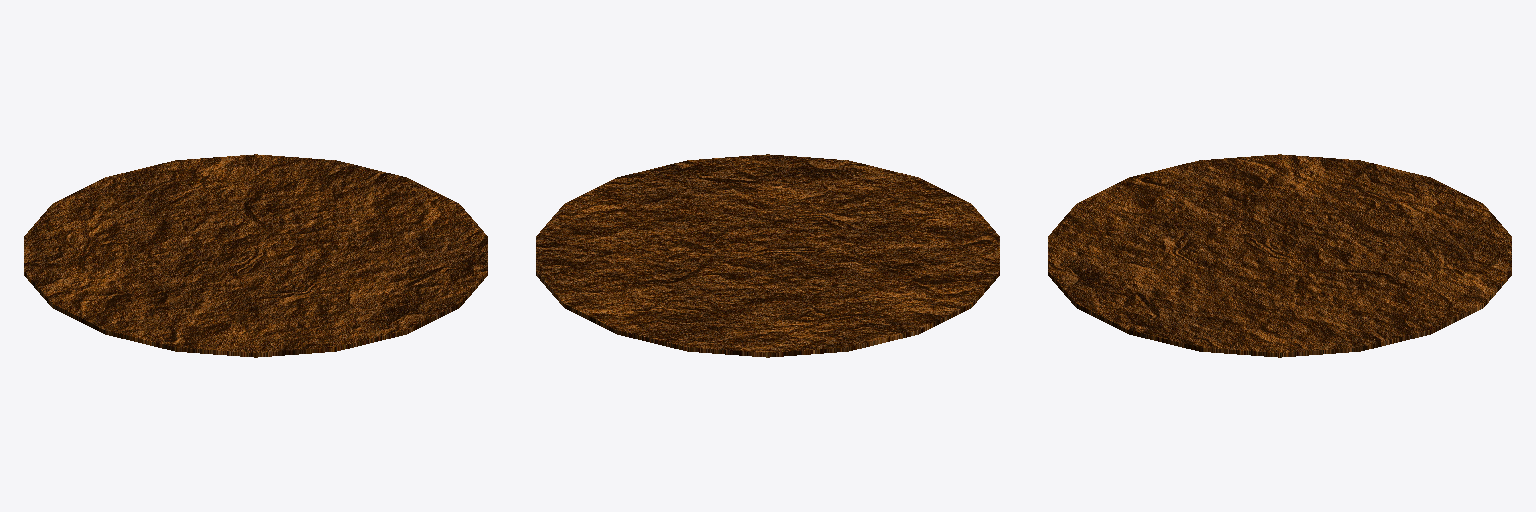
3 renders of one model, left to right at view 1: azimuth 30°, elevation 25°; view 2: azimuth 150°, elevation 25°; view 3: azimuth 270°, elevation 25°, orthographic.
Visible parts, largest first — view 1: Cylinder001; view 2: Cylinder001; view 3: Cylinder001.
Part boxes in pixels (left/top/right/bottom): Cylinder001: left=24, top=154, right=487, bottom=357; Cylinder001: left=536, top=154, right=999, bottom=357; Cylinder001: left=1048, top=154, right=1511, bottom=357.
Bounding box in the file's own units: 94.34 × 0.948 × 92.91.
Materials: 1 (1 with a texture image).